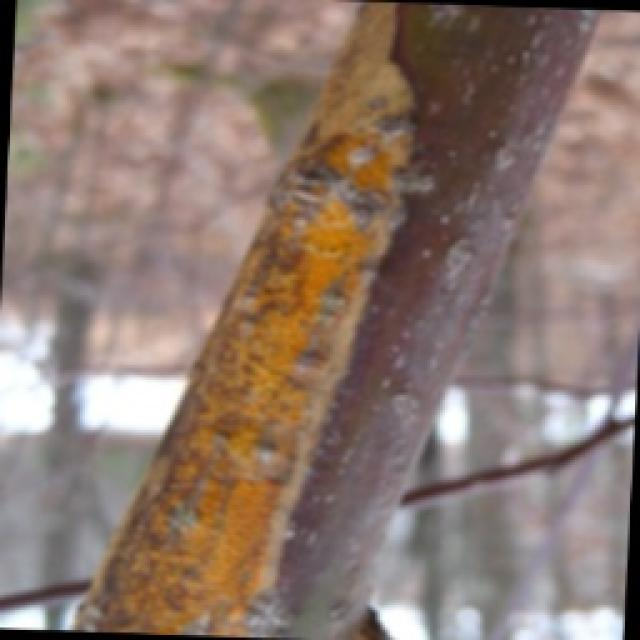Golden_canker: (65, 2, 420, 632)
